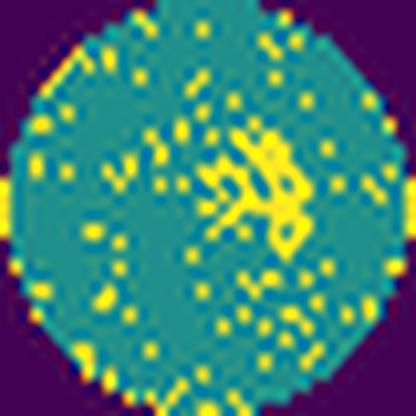Loc: (191, 124, 318, 263)
